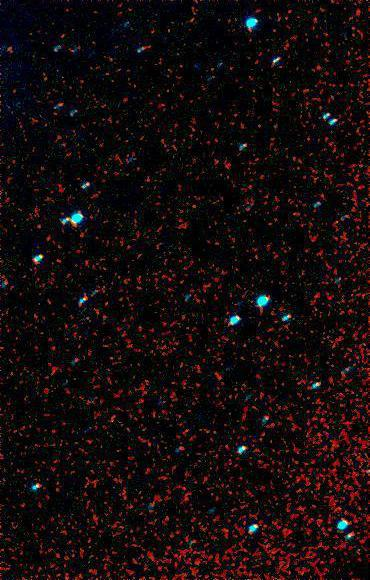star: (0, 36, 25, 66)
